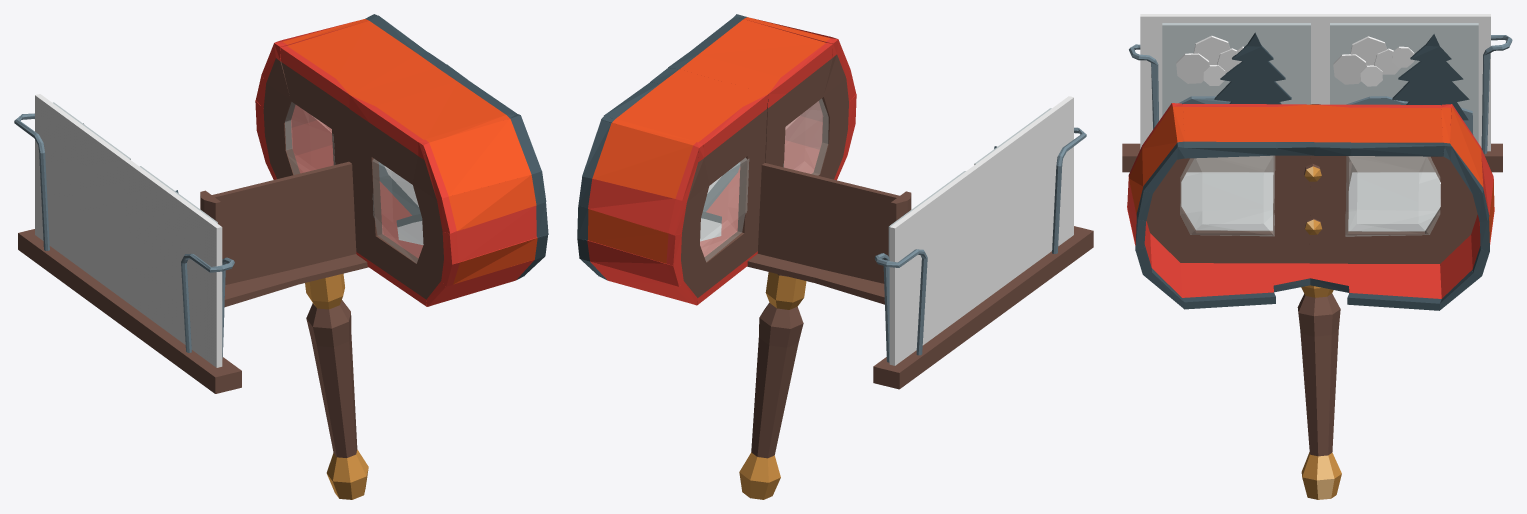
Rendered from model-triangulated.obj.
3 views of the same model, side by side, from view 1: azimuth 30°, elevation 25°; view 2: azimuth 150°, elevation 25°; view 3: azimuth 270°, elevation 25° (orthographic). The views are drawn at different scales.
Visible parts, largest first — view 1: group1549805058; view 2: group1549805058; view 3: group1549805058.
Part boxes in pixels (x1=…): group1549805058: x1=14, y1=14, x2=548, y2=499; group1549805058: x1=577, y1=14, x2=1093, y2=499; group1549805058: x1=1122, y1=14, x2=1512, y2=499.
Bounding box in the file's own units: 0.6449 × 0.7343 × 0.6564.
